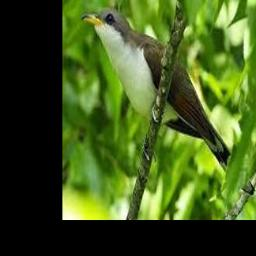Cuckoo: (81, 8, 255, 194)
